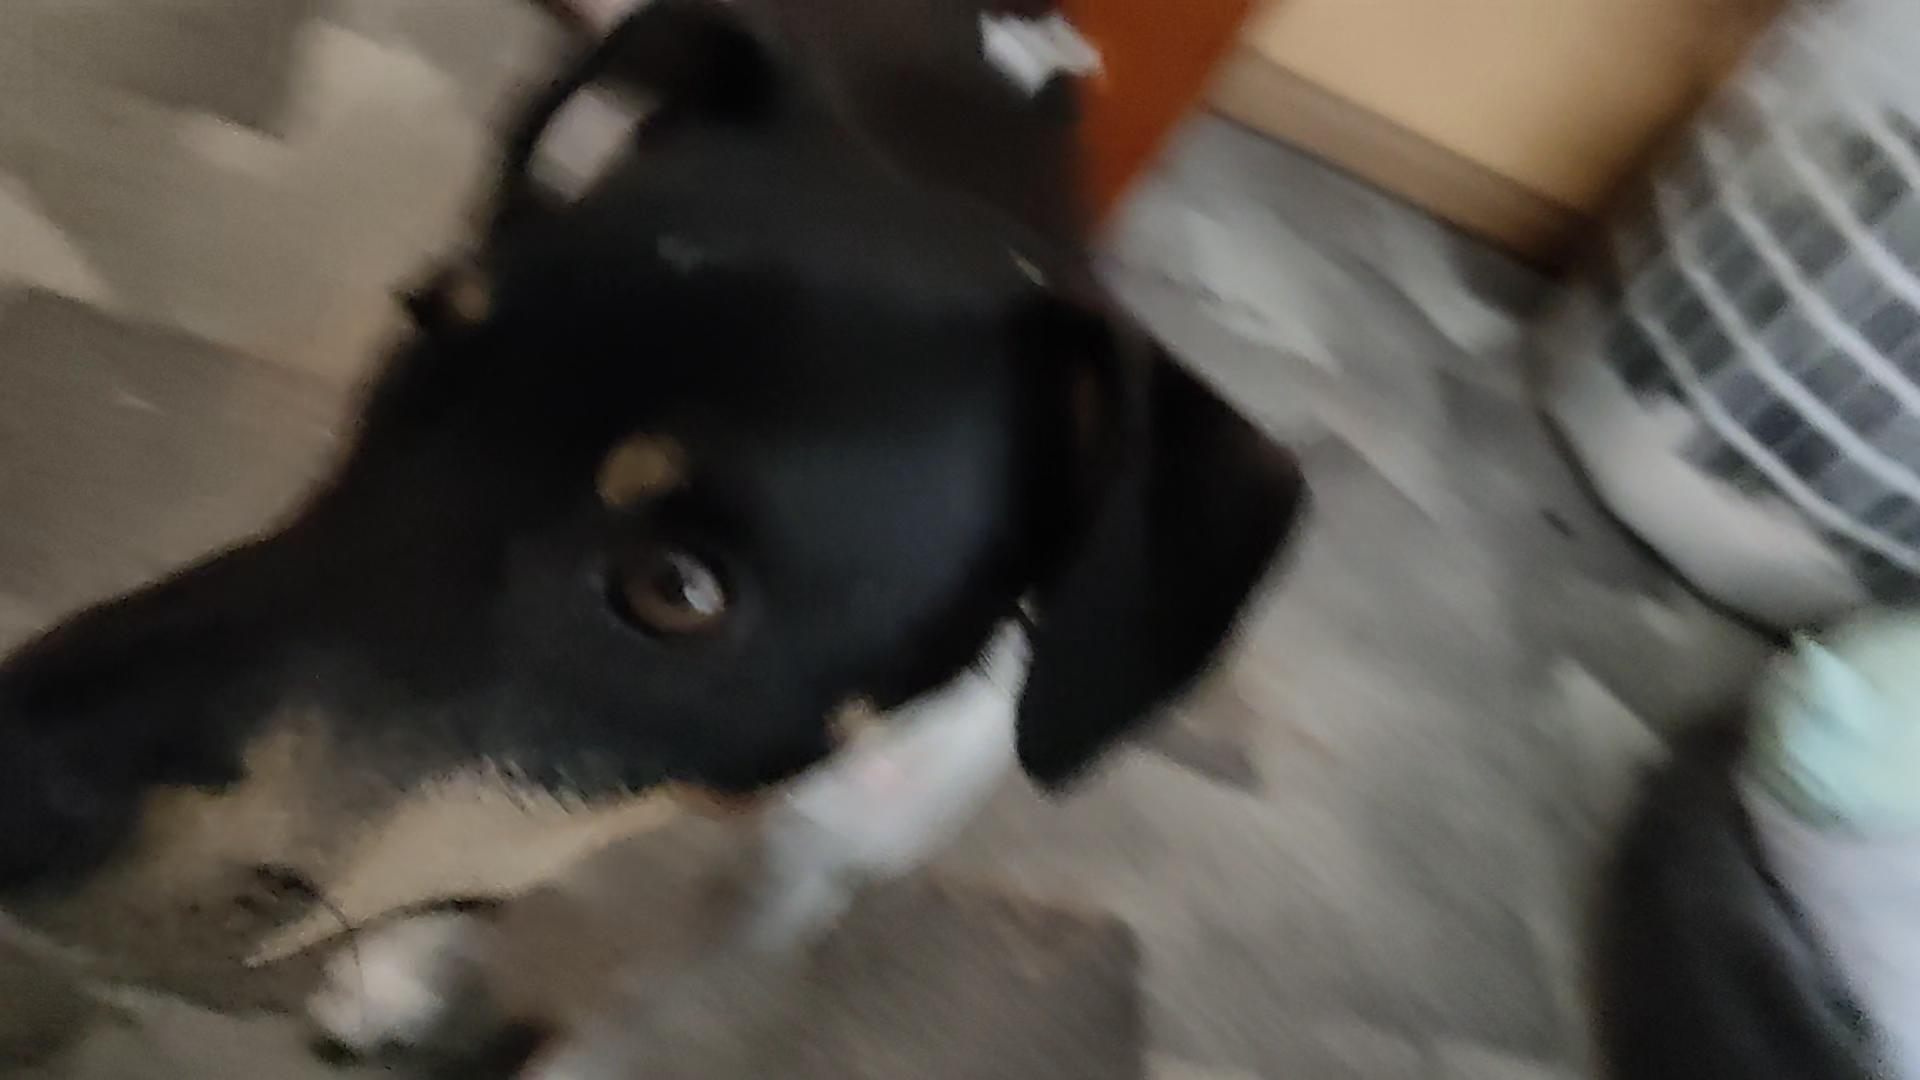Dog: (0, 0, 1309, 1080)
